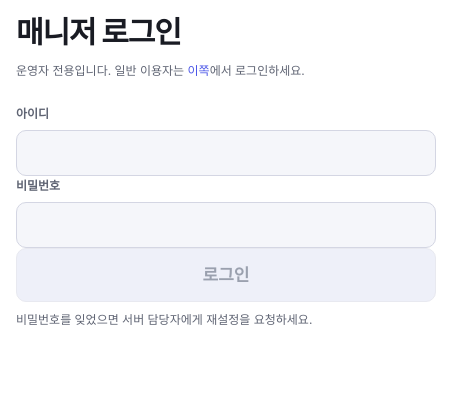
Test: ManagerLoginPage › 5회 실패로 잠기면(429) 서버 문장을 그대로 보여준다
The image size is (453, 414).
Type "manager" into the field labelled "아이디".
click(226, 153); type("manager")  # box [16,130,436,176]
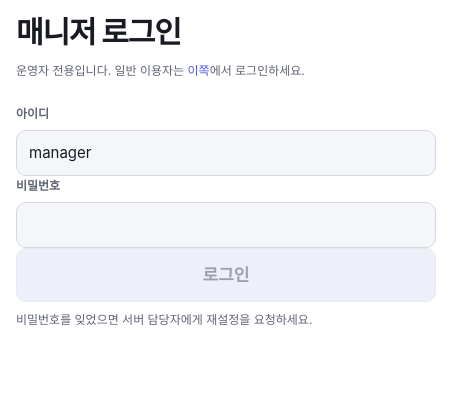
Type "wrong" into the password field labelled "비밀번호".
click(226, 225); type("wrong")  # box [16,202,436,248]
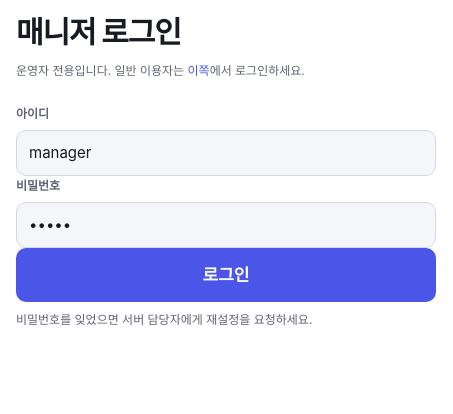
Click the button "로그인".
click(226, 275)  # box [16,248,436,302]
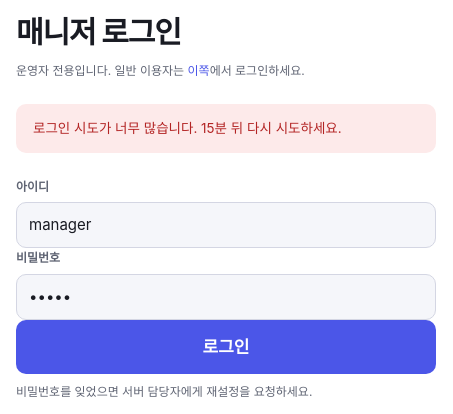
Expected: the text "로그인 시도가 너무 많습니다. 15분 뒤 다시 시도하세요." is shown, [16,104,436,153]
